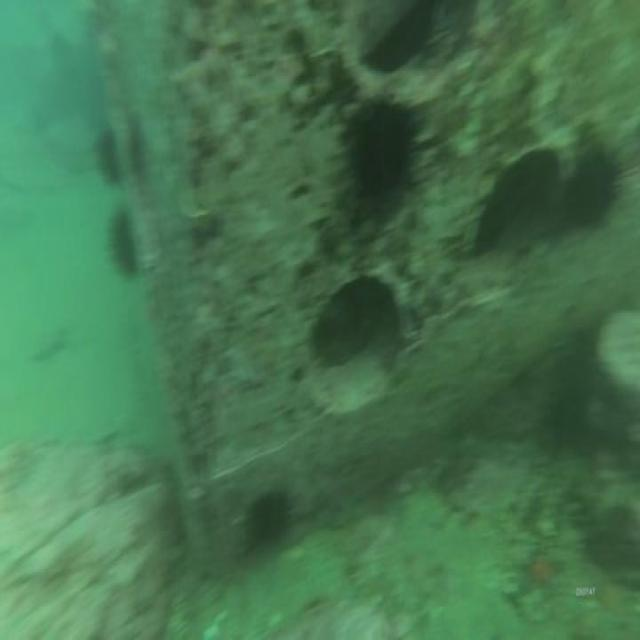echinus: (340, 90, 416, 232), (564, 126, 620, 242), (107, 206, 144, 282), (94, 123, 124, 190)
starfish: (516, 537, 564, 604)
